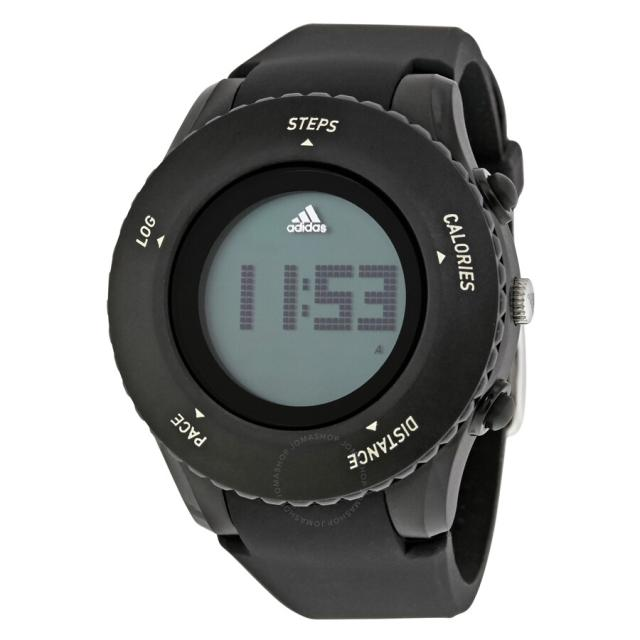watch: (110, 154, 507, 430)
